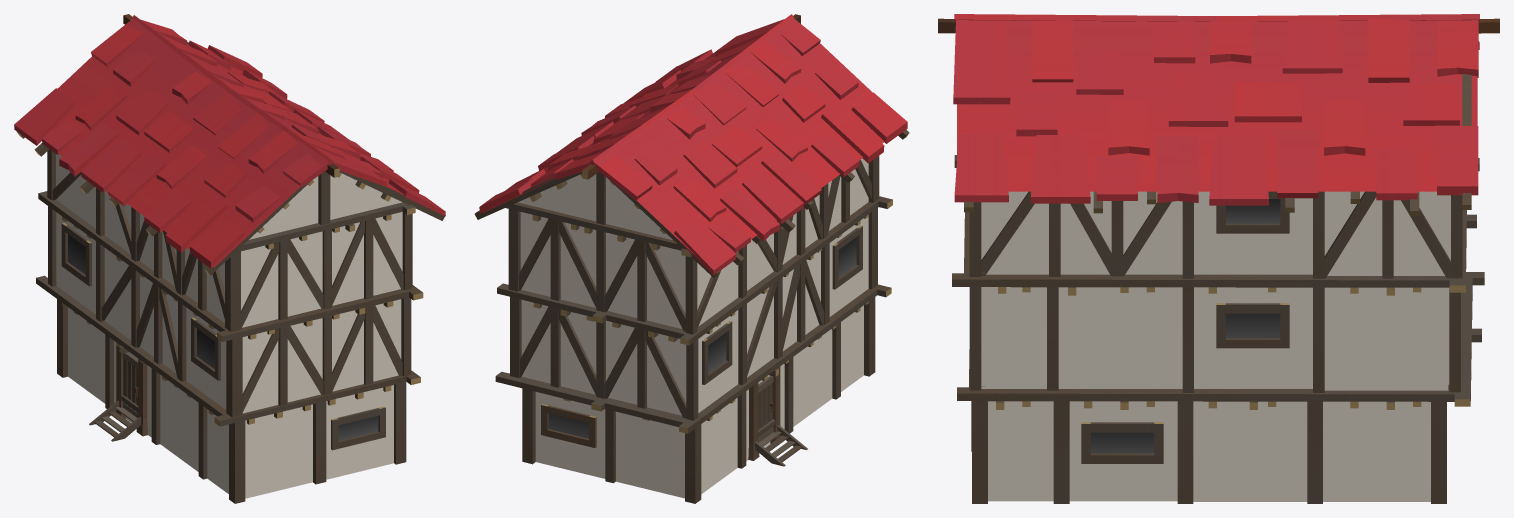
The model's file is House_17.fbx.
The picture shows the model from 3 angles, left to right: view 1: azimuth 30°, elevation 25°; view 2: azimuth 150°, elevation 25°; view 3: azimuth 270°, elevation 25°; orthographic projection. The views are drawn at different scales.
Visible parts, largest first — view 1: polySurface9626; view 2: polySurface9626; view 3: polySurface9626.
Boxes of the visible parts, x1,y1,x2,y2 form: polySurface9626: [14, 14, 445, 503]; polySurface9626: [474, 14, 909, 503]; polySurface9626: [938, 14, 1499, 503].
Size of the model in its own units: 924 by 1167 by 1361.
